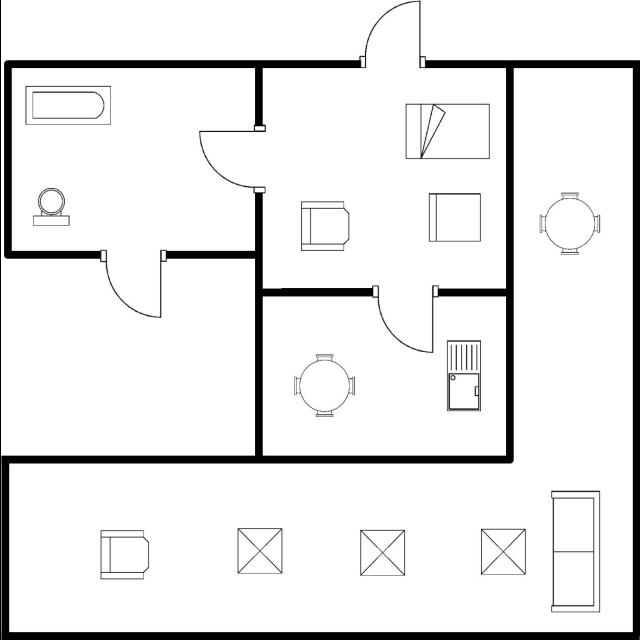armchair: (94, 525, 158, 584), (296, 198, 354, 255)
bed: (400, 97, 494, 163)
coffee_table: (231, 520, 287, 580), (356, 524, 410, 582), (476, 522, 529, 580)
large_sink: (30, 183, 74, 230)
large_sofa: (544, 486, 606, 616)
round_table: (534, 187, 603, 260), (290, 348, 360, 419)
sink: (443, 336, 485, 415)
small_sofa: (422, 188, 484, 246)
tub: (21, 80, 114, 130)
